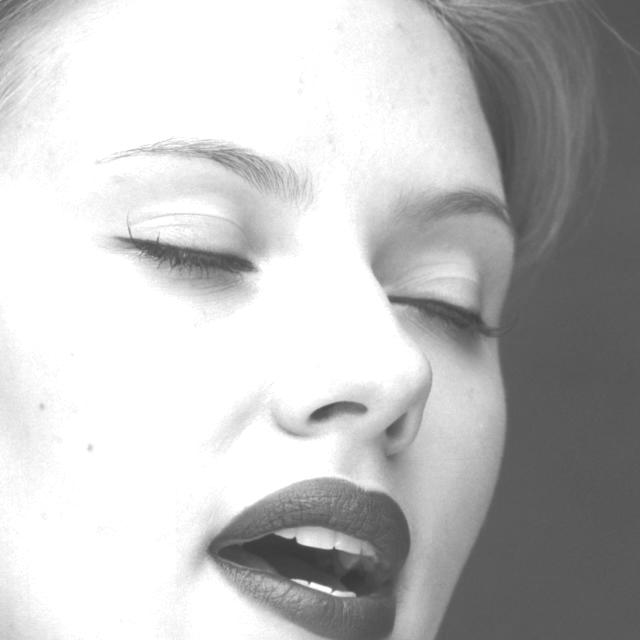real: (34, 0, 444, 633), (91, 152, 507, 354)
